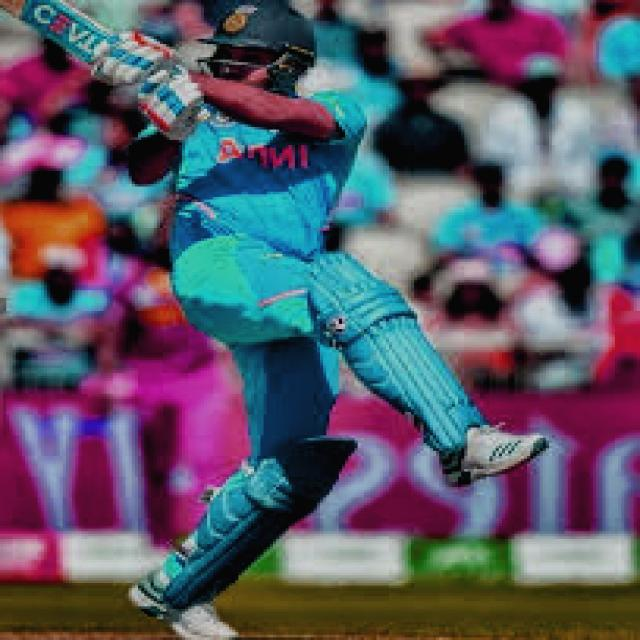toe: (0, 0, 47, 10)
